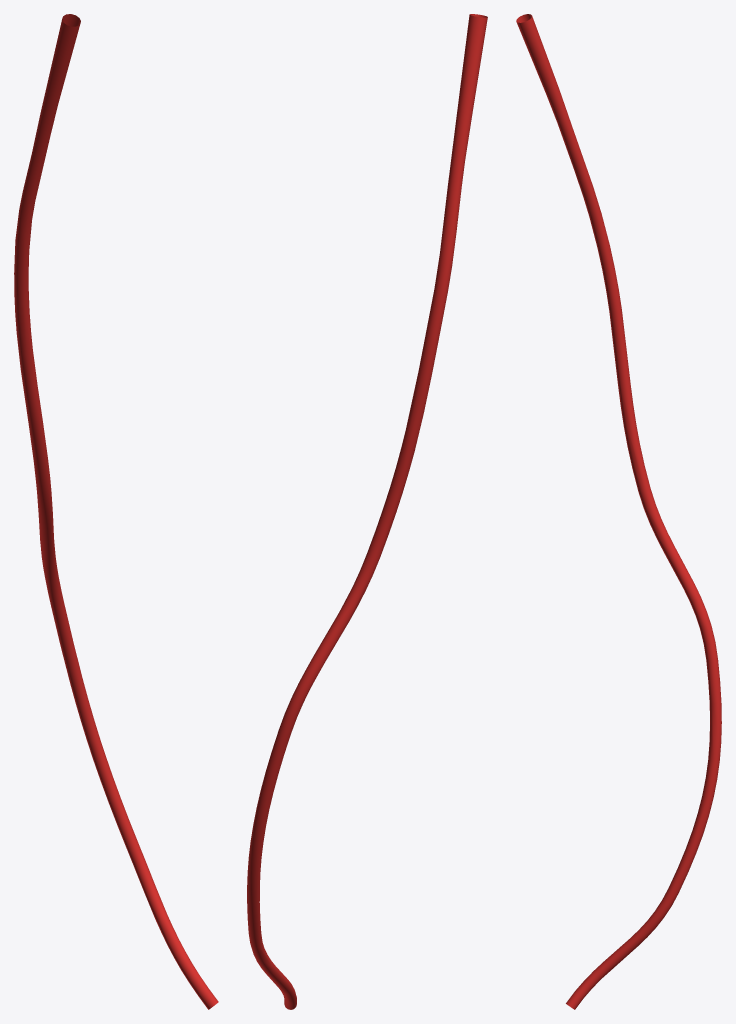
The model's file is circulatorio-superior-ulnar-collateral-artery-l.glb.
3 renders of one model, left to right at view 1: azimuth 30°, elevation 25°; view 2: azimuth 150°, elevation 25°; view 3: azimuth 270°, elevation 25°, orthographic. The views are drawn at different scales.
Parts seen in each view (by area): view 1: Superior ulnar collateral artery.l; view 2: Superior ulnar collateral artery.l; view 3: Superior ulnar collateral artery.l.
Boxes of the visible parts, x1,y1,x2,y2 form: Superior ulnar collateral artery.l: (14, 14, 218, 1009); Superior ulnar collateral artery.l: (247, 14, 487, 1009); Superior ulnar collateral artery.l: (516, 14, 721, 1009).
Bounding box in the file's own units: 0.0222 × 0.1199 × 0.0242.
